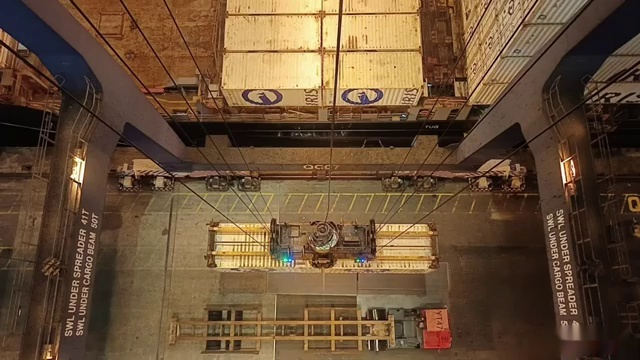container: (205, 225, 438, 278), (222, 51, 428, 108), (225, 12, 430, 50), (223, 1, 424, 37), (222, 0, 424, 23), (222, 0, 421, 20), (455, 3, 640, 24), (209, 0, 435, 17)
guide_mark: (101, 194, 535, 212), (66, 349, 560, 360)
spreader: (202, 217, 443, 270)
target_slot: (155, 301, 403, 356)
